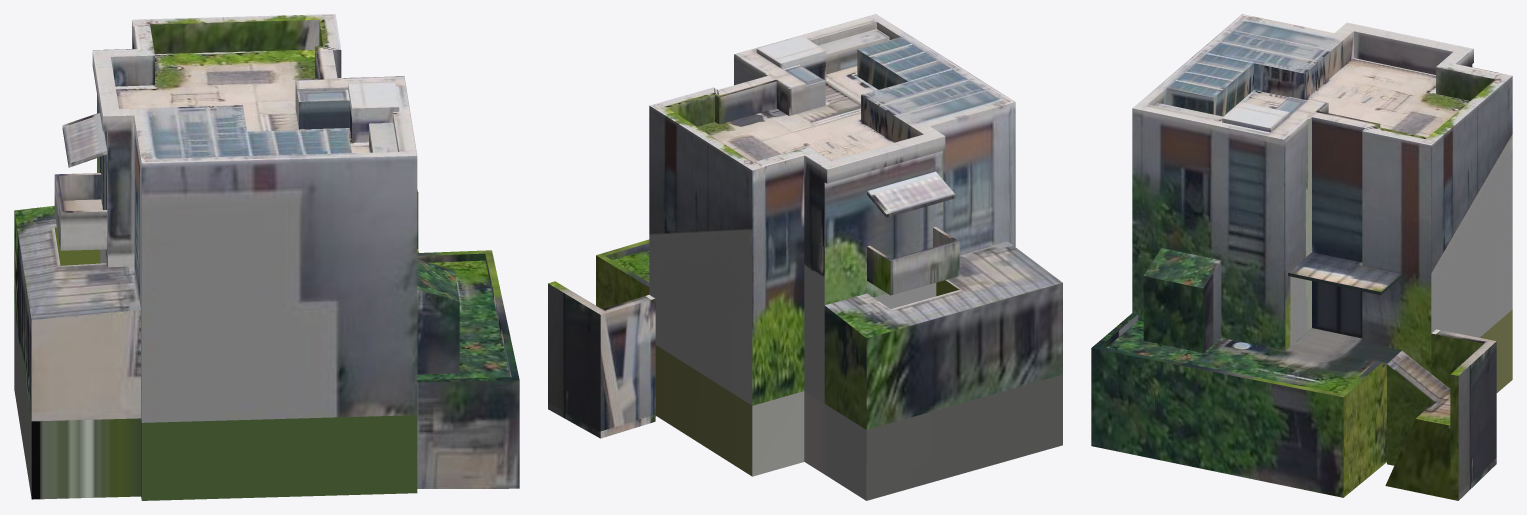
3 views of the same model, side by side, from view 1: azimuth 30°, elevation 25°; view 2: azimuth 150°, elevation 25°; view 3: azimuth 270°, elevation 25° (orthographic). The views are drawn at different scales.
Parts seen in each view (by area): view 1: B287724035901062A0; view 2: B287724035901062A0; view 3: B287724035901062A0.
Boxes of the visible parts, bbox=[...] form: B287724035901062A0: bbox=[14, 14, 519, 500]; B287724035901062A0: bbox=[548, 14, 1062, 500]; B287724035901062A0: bbox=[1091, 14, 1512, 500].
Size of the model in its own units: 18.33 by 12.64 by 15.21.
Materials: 1 (1 with a texture image).
